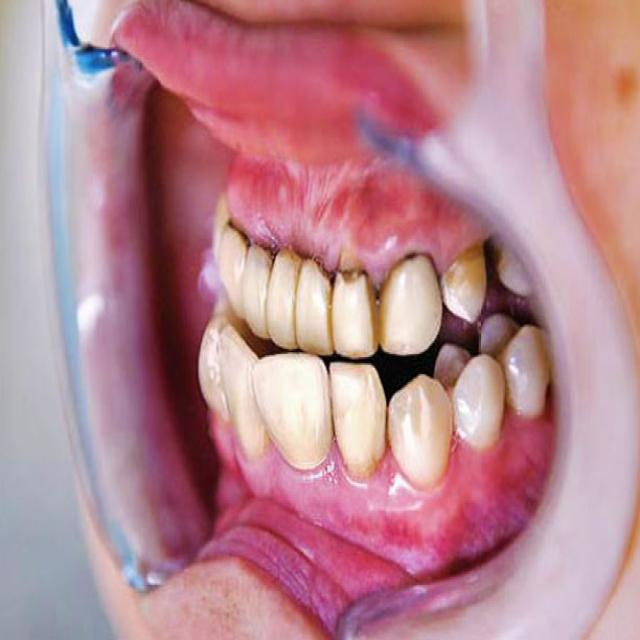caries: (334, 247, 372, 287), (224, 213, 255, 254), (248, 231, 277, 271), (277, 234, 306, 268), (312, 249, 336, 288), (400, 245, 420, 271)
